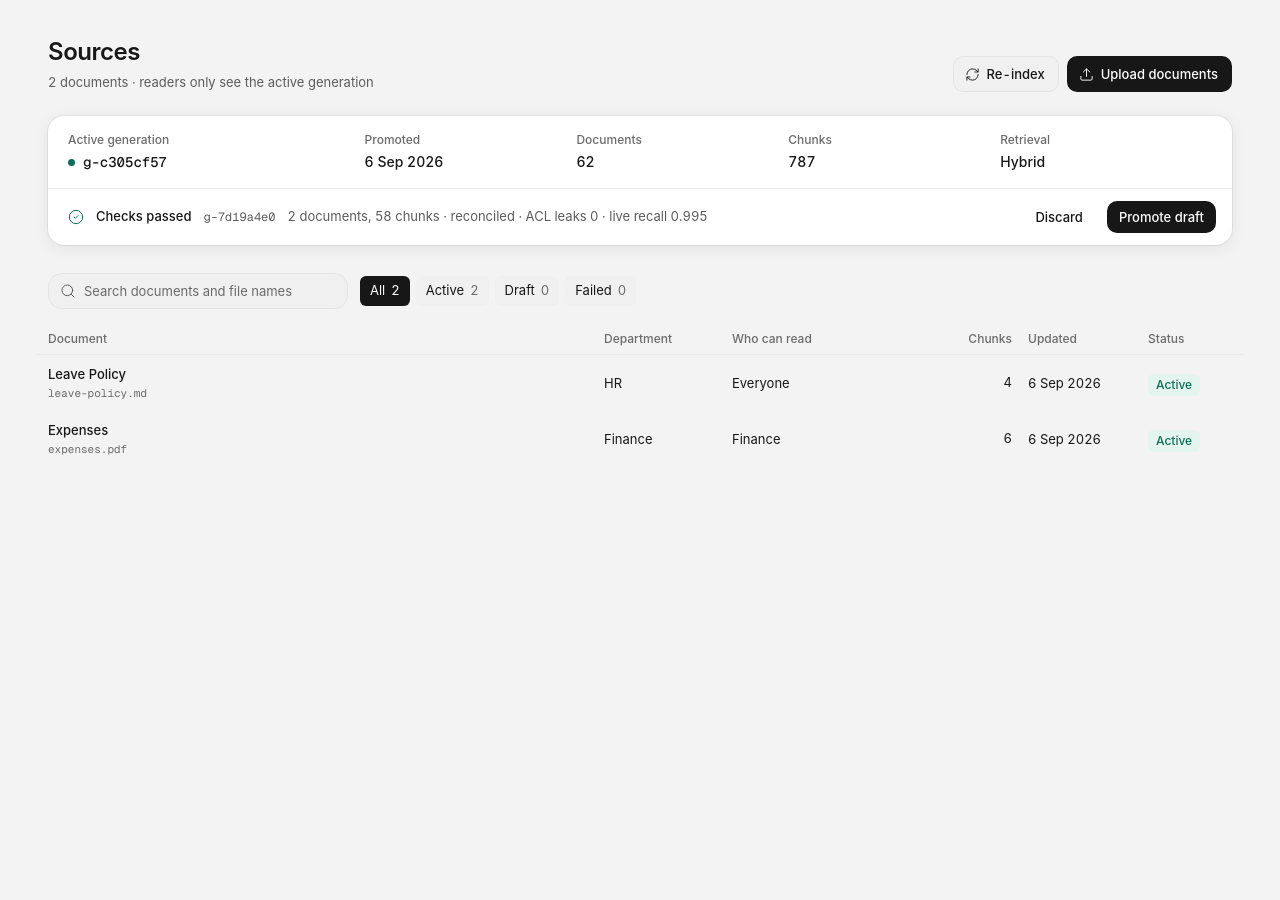
Test case: SourcesWorkspace promote and discard › promotes the draft after confirming, then reloads the sources
Click the button "Promote draft".
click(1161, 217)  # box [1107,201,1216,233]
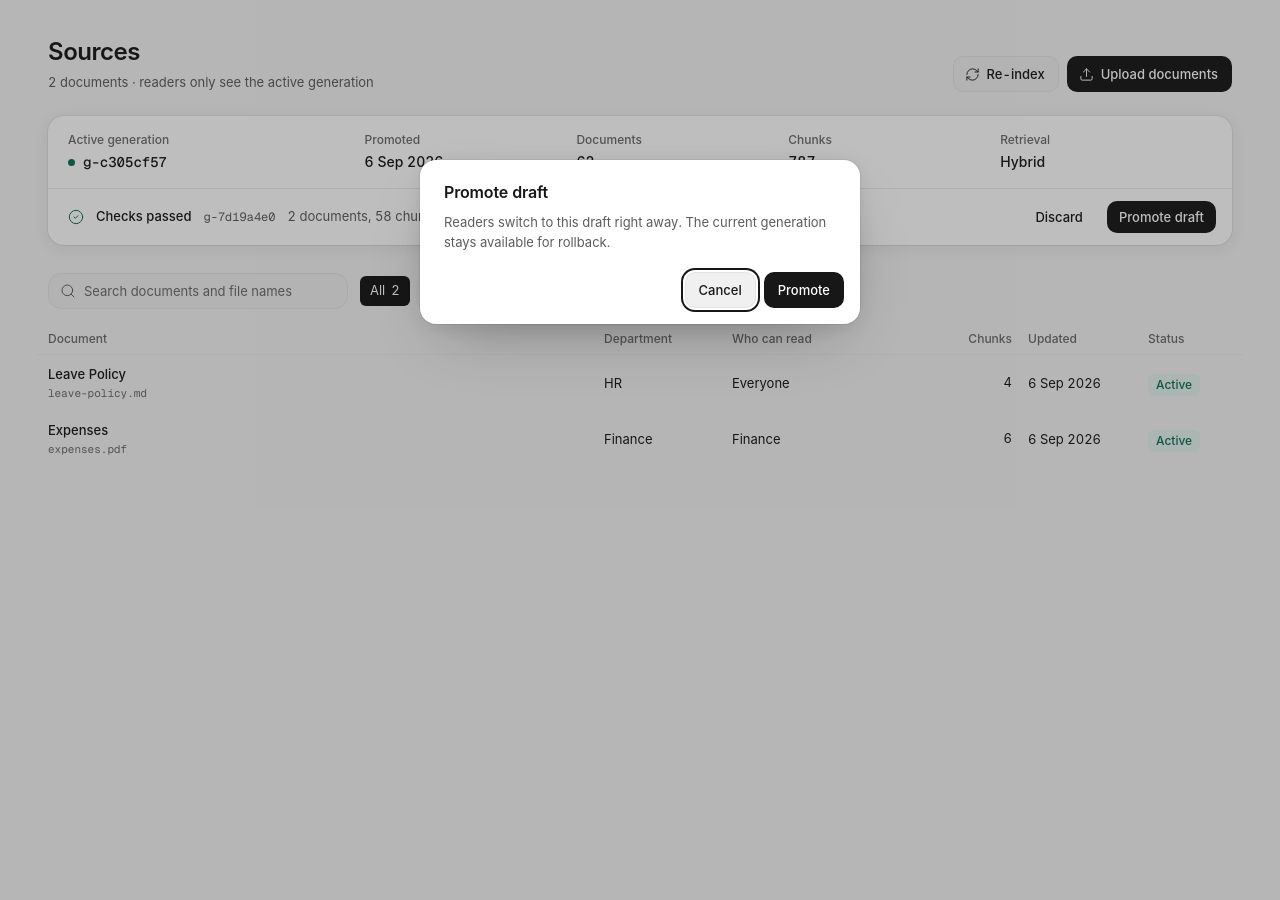
Click the button "Promote".
click(804, 290)  # box [764,272,844,308]
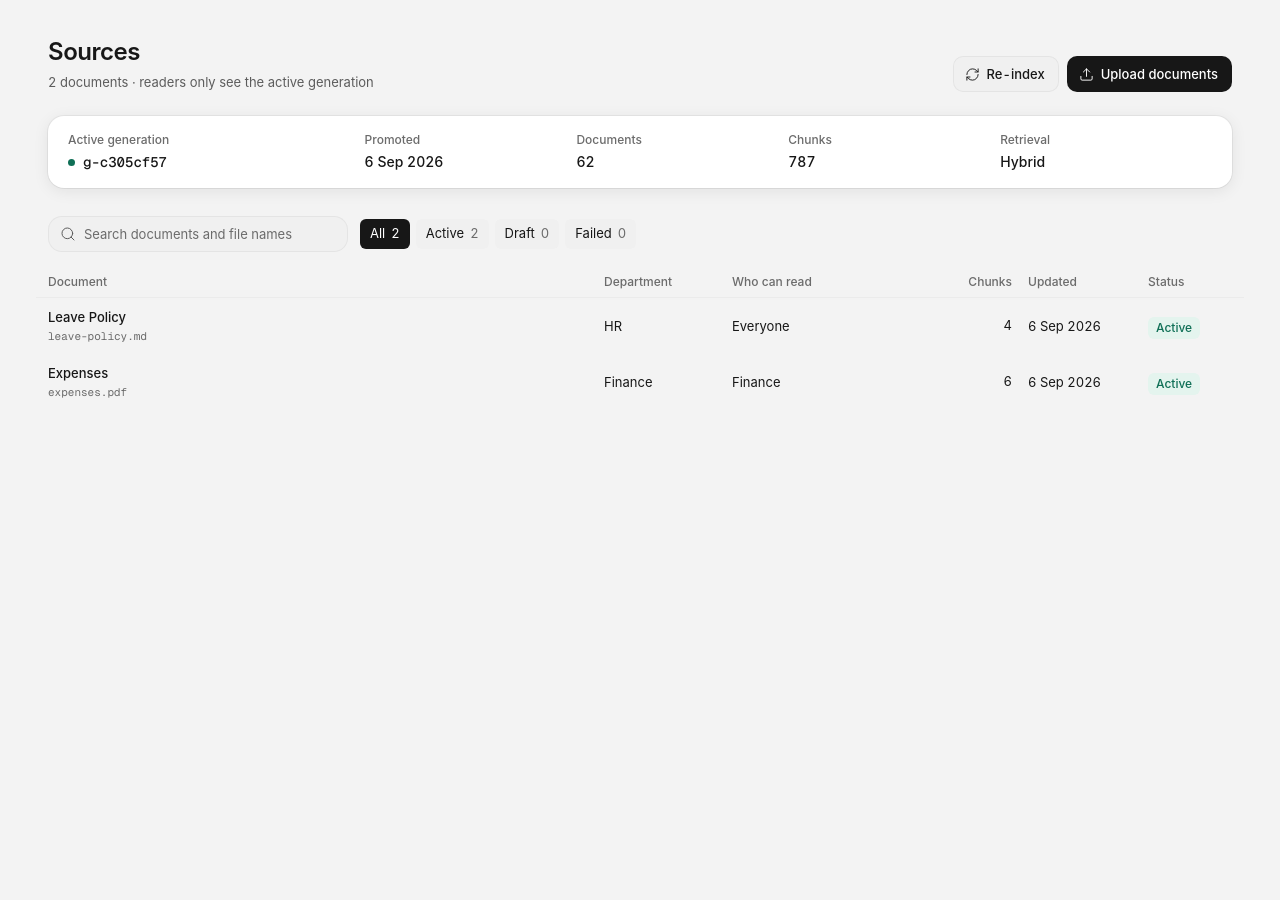
Expected: the dialog is gone
Expected: the text "Checks passed" is gone
